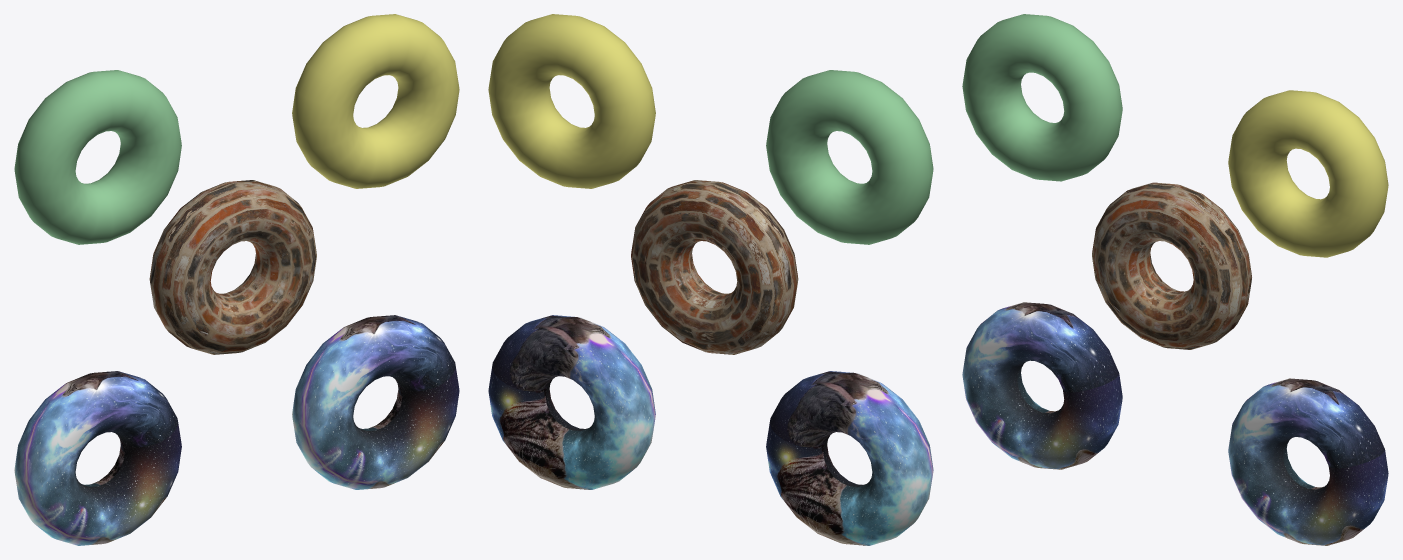
The model's file is Testtorus.fbx.
The picture shows the model from 3 angles, left to right: view 1: azimuth 30°, elevation 25°; view 2: azimuth 150°, elevation 25°; view 3: azimuth 330°, elevation 25°; orthographic projection. The views are drawn at different scales.
Visible parts, largest first — view 1: pasted__pasted__pTorus1; view 2: pasted__pasted__pTorus1; view 3: pasted__pasted__pTorus1.
Boxes of the visible parts, bbox=[...] form: pasted__pasted__pTorus1: bbox=[14, 14, 459, 545]; pasted__pasted__pTorus1: bbox=[488, 14, 933, 545]; pasted__pasted__pTorus1: bbox=[962, 14, 1388, 545].
Bounding box in the file's own units: 8.22 × 8.62 × 1.
5 materials, 3 textured.
